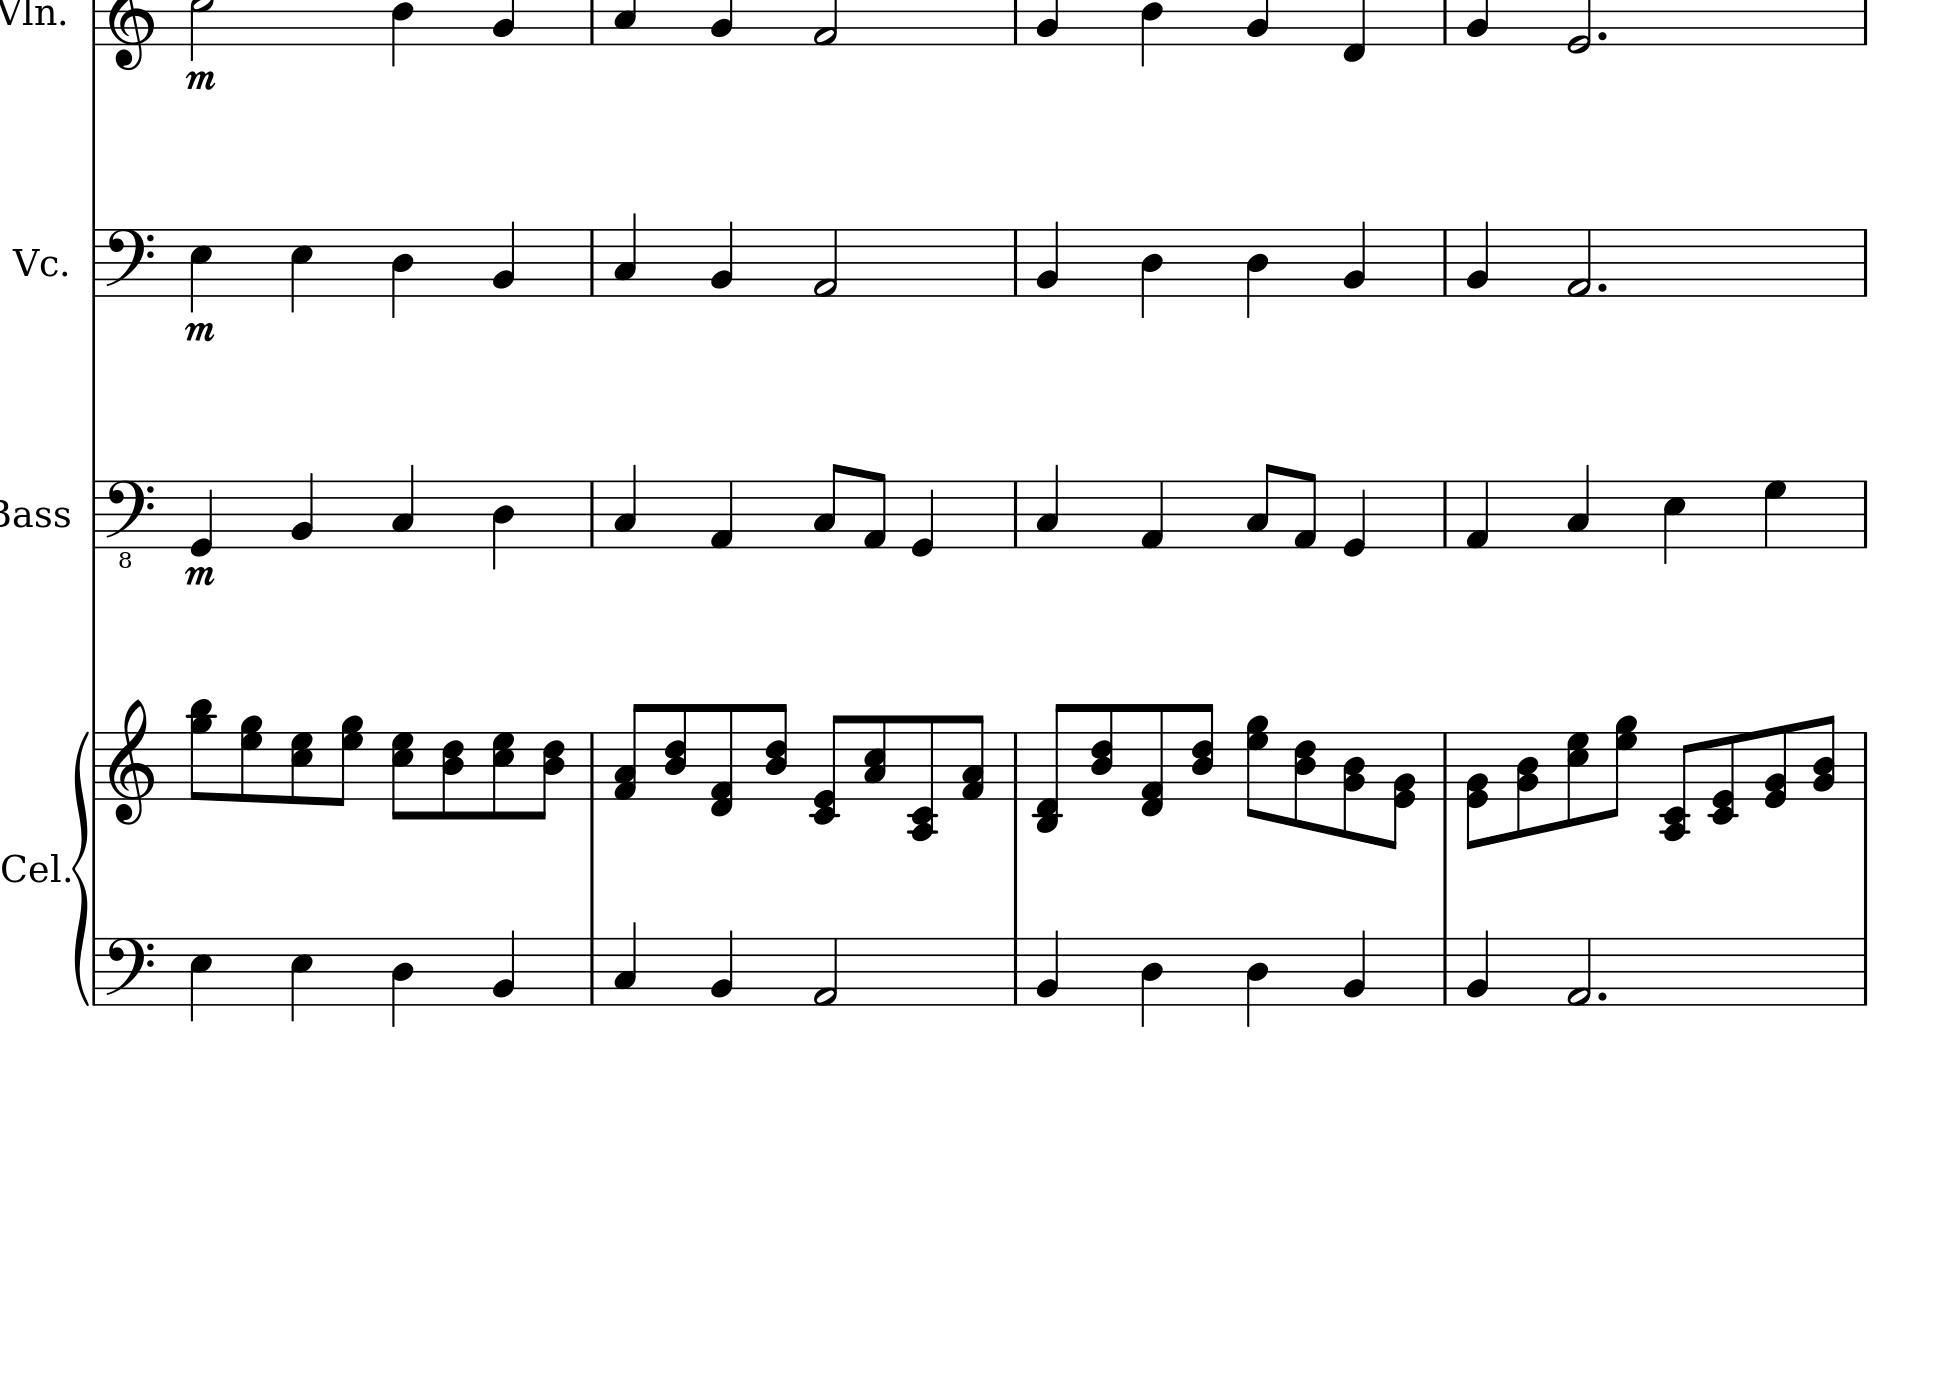2_1: (811, 226, 840, 298), (811, 936, 840, 1006), (1566, 226, 1593, 298), (1566, 936, 1593, 1006)
4_0: (187, 478, 214, 559), (1341, 478, 1368, 559), (910, 477, 936, 559)
4_1: (708, 478, 735, 550), (1464, 478, 1491, 550), (1140, 478, 1165, 550)
4_2: (1464, 927, 1492, 1006), (289, 471, 316, 550), (490, 927, 517, 1006), (709, 927, 736, 1006), (1035, 927, 1062, 1006), (1342, 927, 1369, 1006), (1465, 219, 1492, 297), (492, 219, 517, 298), (709, 217, 735, 297), (1036, 219, 1062, 298), (1344, 217, 1368, 297)
4_3: (1035, 463, 1062, 549), (390, 463, 415, 549), (1566, 463, 1591, 549), (613, 919, 637, 1006), (613, 211, 637, 297), (613, 463, 637, 549)
4_4: (390, 226, 415, 319), (1245, 226, 1270, 319), (390, 934, 415, 1027), (490, 478, 516, 570), (1245, 936, 1270, 1027), (1140, 226, 1164, 319), (1140, 934, 1164, 1027)
4_5: (187, 226, 214, 313), (187, 934, 214, 1021), (289, 934, 315, 1023), (289, 226, 313, 316), (1662, 478, 1686, 565)
4_7: (1762, 478, 1788, 550)
8_-1_1: (1140, 703, 1167, 817), (709, 702, 733, 817)
8_-2_0: (805, 712, 846, 825), (1707, 730, 1743, 825)
8_-3_-1: (1033, 702, 1074, 832)
8_-4_-2: (906, 712, 940, 843), (1659, 730, 1696, 841)
8_0_2: (1386, 730, 1417, 853), (1467, 730, 1491, 849), (1762, 724, 1791, 807)
8_1: (862, 469, 888, 550), (1293, 469, 1318, 550)
8_1_3: (613, 702, 645, 801), (961, 714, 987, 801)
8_2_4: (1342, 730, 1368, 841), (1515, 730, 1539, 838), (1812, 714, 1837, 799)
8_3: (811, 462, 844, 550), (1245, 462, 1278, 550)
8_3_5: (862, 714, 888, 801)
8_4_6: (1089, 703, 1117, 802), (535, 730, 565, 820), (661, 702, 688, 801), (763, 700, 789, 802), (1293, 730, 1318, 832), (439, 729, 466, 820), (1191, 702, 1215, 801)
8_5_7: (1566, 730, 1591, 826), (490, 729, 516, 820), (390, 730, 415, 820), (289, 730, 313, 805)
8_7_9: (1608, 715, 1638, 817), (1246, 712, 1272, 820), (336, 714, 364, 807), (238, 712, 264, 802)
8_9_11: (186, 697, 217, 801)
Brace: (70, 724, 91, 1003)
Cel: (1, 847, 63, 888)
Fclef: (103, 226, 156, 298), (103, 934, 154, 1006)
Gclef: (106, 697, 154, 826)
Lower_Fclef: (103, 477, 156, 570)
Single_barline: (1006, 730, 1026, 799), (85, 228, 103, 295), (1008, 480, 1026, 547), (1437, 480, 1455, 547), (583, 732, 601, 799), (583, 937, 601, 1005), (583, 229, 601, 295), (1437, 229, 1455, 295), (1857, 228, 1873, 295), (1857, 480, 1873, 547), (1008, 229, 1024, 295), (583, 480, 600, 546), (1437, 732, 1453, 798), (1008, 937, 1024, 1003), (1437, 937, 1453, 1003), (87, 478, 102, 547), (1857, 730, 1872, 799), (1857, 937, 1872, 1003), (88, 730, 102, 799), (88, 937, 102, 1003)
Vc: (7, 243, 63, 282)
dot: (1594, 28, 1609, 42), (1596, 279, 1608, 294), (1596, 988, 1608, 1003)
m: (181, 319, 217, 346), (184, 67, 217, 94)
mp: (181, 561, 217, 589)
